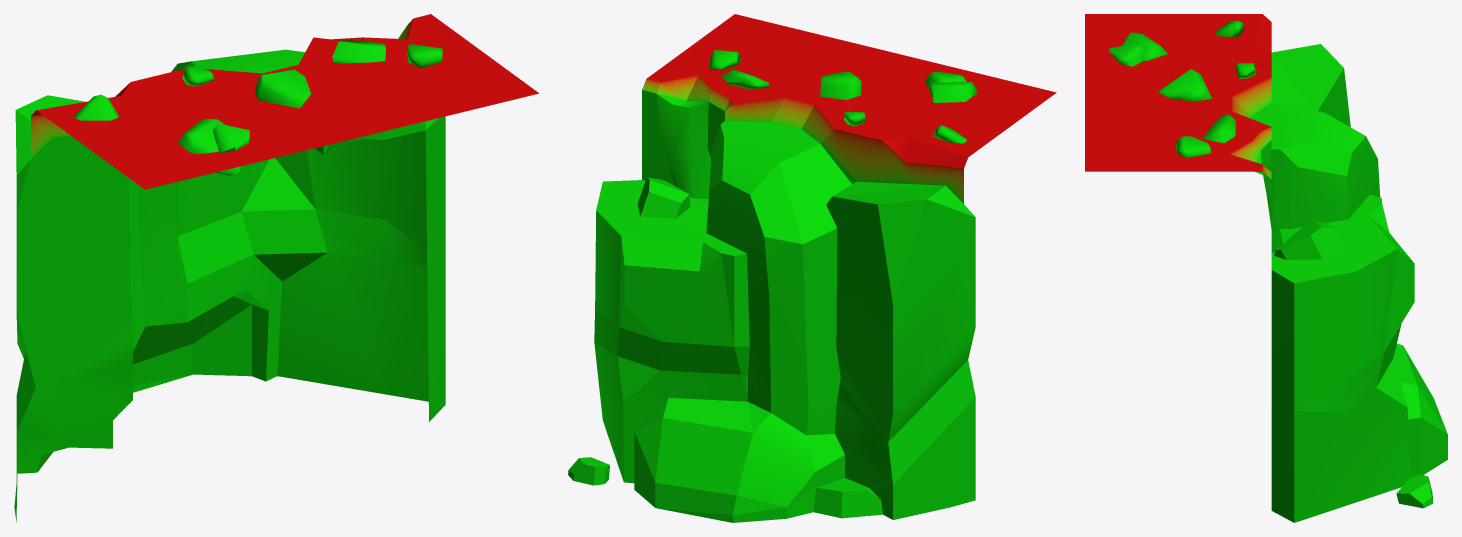
File: Cliff_Edge_B.fbx
The picture shows the model from 3 angles, left to right: view 1: azimuth 30°, elevation 25°; view 2: azimuth 150°, elevation 25°; view 3: azimuth 270°, elevation 25°; orthographic projection. The views are drawn at different scales.
Visible parts, largest first — view 1: cliff_edge_B; view 2: cliff_edge_B; view 3: cliff_edge_B.
Boxes of the visible parts, <box> form: cliff_edge_B: <box>14,14,539,522</box>; cliff_edge_B: <box>568,14,1056,522</box>; cliff_edge_B: <box>1085,14,1447,522</box>.
Bounding box in the file's own units: 225 × 195 × 211.
